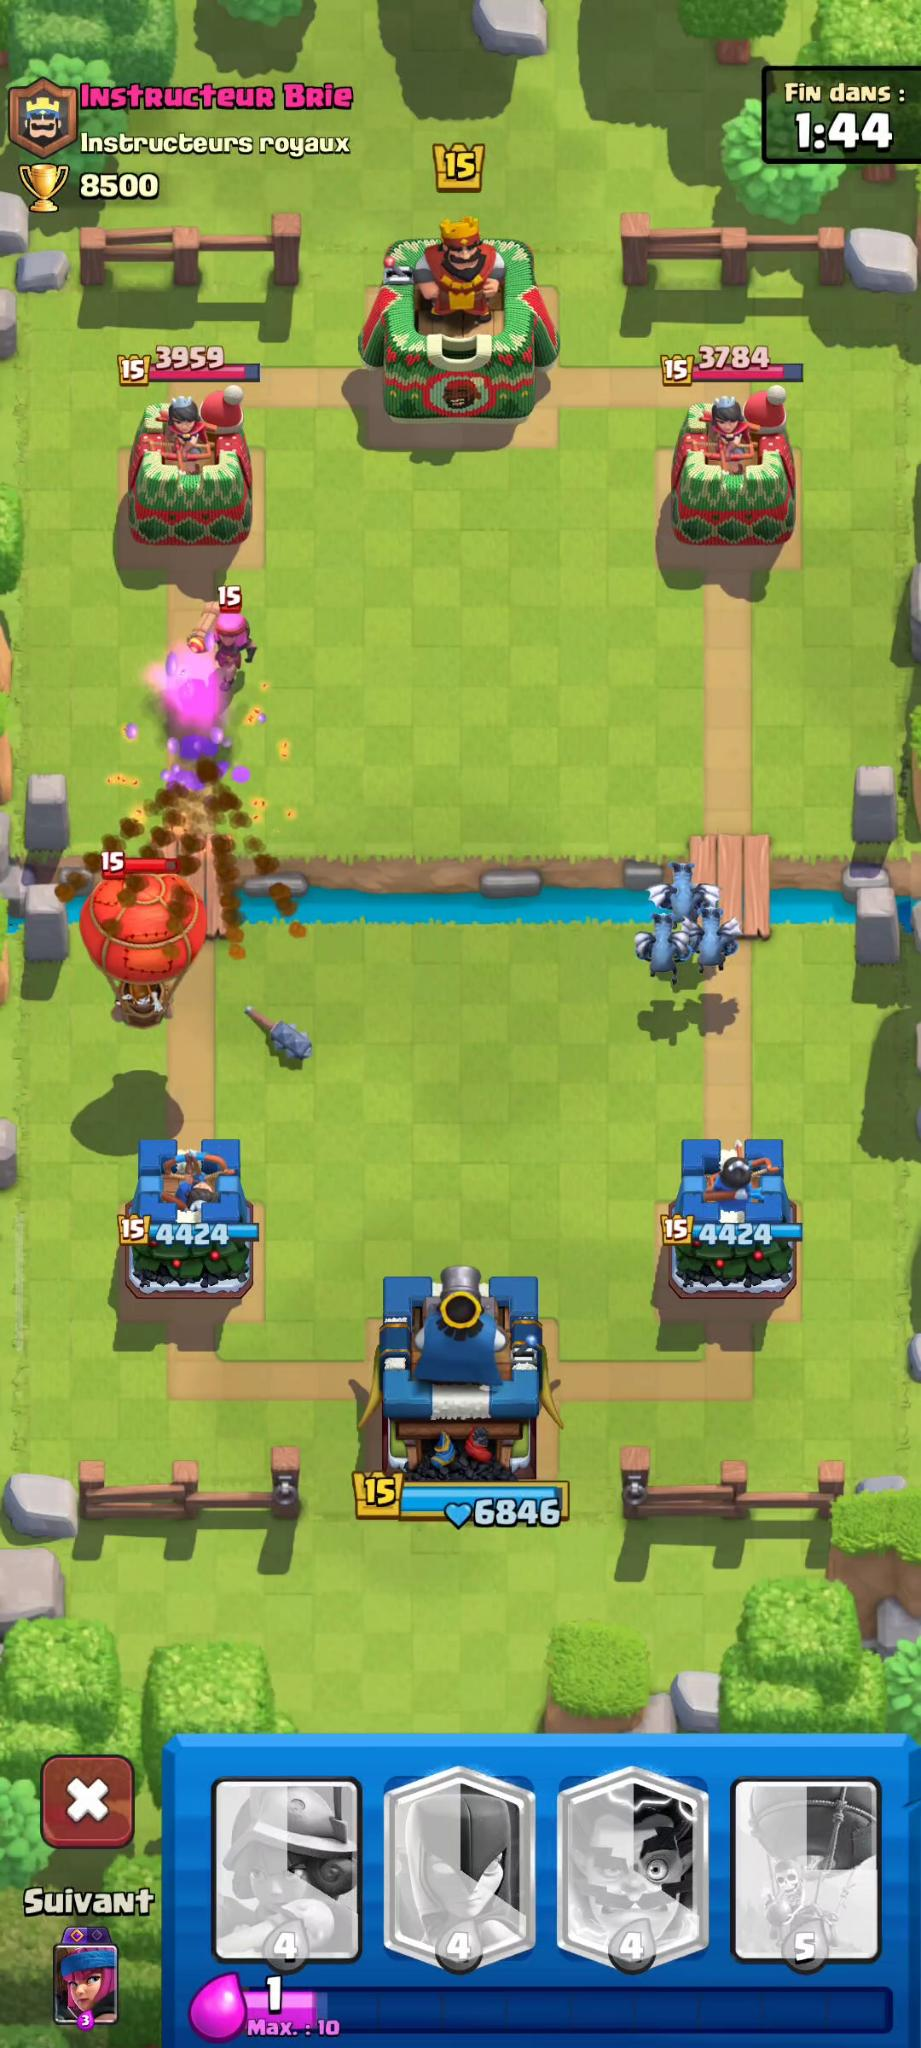gargouille: (658, 865, 711, 929), (638, 920, 687, 981), (692, 914, 742, 974), (669, 914, 705, 956)
